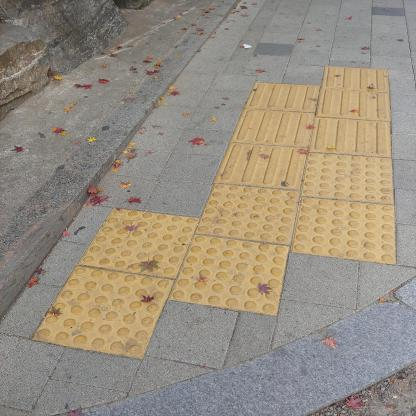podotacti: (25, 59, 406, 367)
